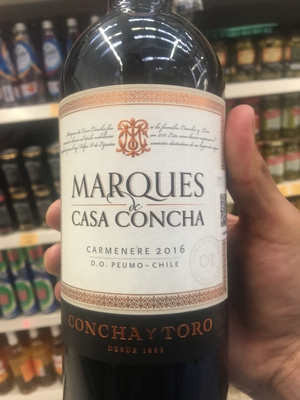marques de casa concha carmenere: (51, 12, 247, 389)
